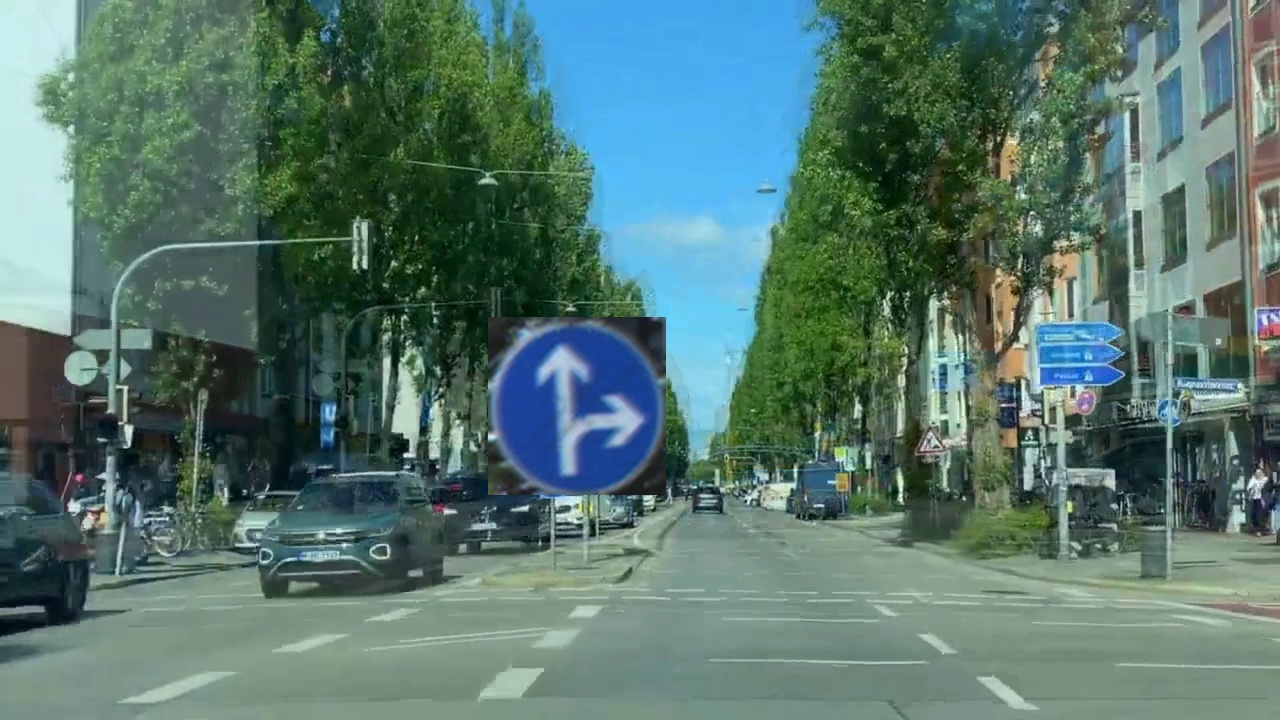Straight/right: (488, 317, 666, 495)
